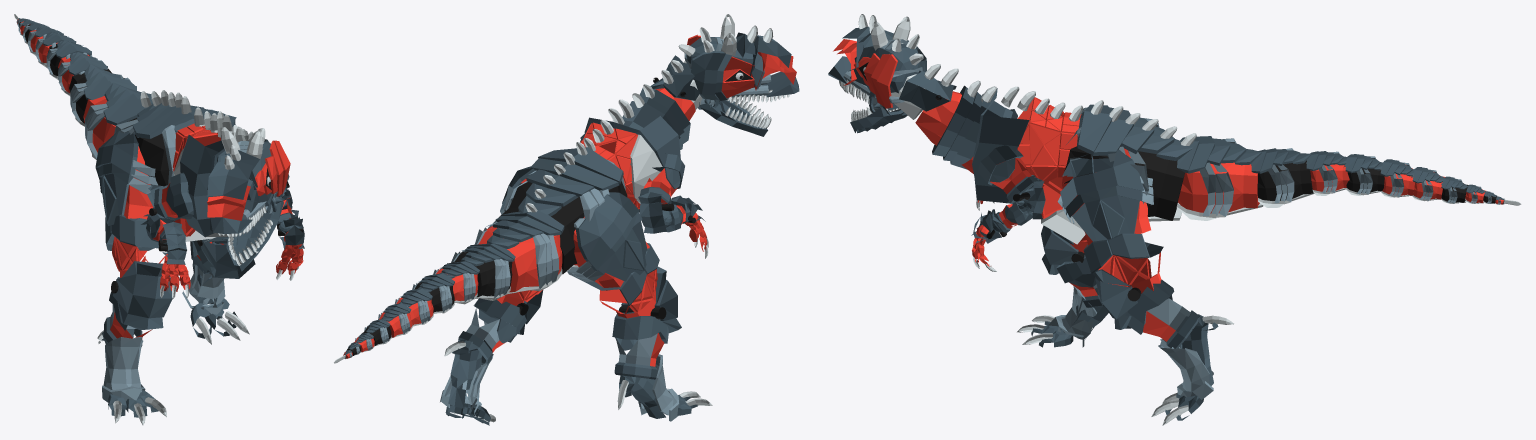
The model's file is allosaurus.glb.
3 views of the same model, side by side, from view 1: azimuth 30°, elevation 25°; view 2: azimuth 150°, elevation 25°; view 3: azimuth 270°, elevation 25° (orthographic). The views are drawn at different scales.
Parts seen in each view (by area): view 1: group1291320117, group2071872759, group981683805, group1539023352, group2094938102, group888383732, group76318400, group267761965, group261914981, group443268231, group403438056, group1146958945 (+25 smaller); view 2: group2071872759, group1291320117, group1539023352, group14225213, group956187693, group267761965, group888383732, group1513851335, group241357605, group2094938102, group981683805, group1507292513 (+21 smaller); view 3: group945318067, group2071872759, group1539023352, group241357605, group406889640, group267761965, group956187693, group1513851335, group2094938102, group186694386, group403438056, group1146958945 (+13 smaller).
Boxes of the visible parts, box(x1,y1,x2,y2) form: group1291320117: box(95, 131, 157, 225); group2071872759: box(114, 103, 235, 186); group981683805: box(111, 261, 172, 329); group1539023352: box(83, 82, 159, 159); group2094938102: box(180, 134, 282, 237); group888383732: box(105, 214, 165, 277); group76318400: box(103, 337, 143, 392); group267761965: box(69, 64, 136, 126); group261914981: box(154, 172, 193, 220); group443268231: box(207, 159, 258, 202); group403438056: box(197, 238, 255, 278); group1146958945: box(58, 52, 107, 96); group2071872759: box(499, 147, 627, 274); group1291320117: box(567, 192, 649, 290); group1539023352: box(474, 209, 564, 294); group14225213: box(612, 312, 668, 379); group956187693: box(458, 298, 526, 365); group267761965: box(451, 243, 515, 300); group888383732: box(585, 243, 659, 318); group1513851335: box(622, 88, 690, 150); group241357605: box(581, 122, 640, 209); group2094938102: box(584, 116, 680, 212); group981683805: box(618, 266, 681, 333); group1507292513: box(630, 134, 662, 203); group945318067: box(1057, 148, 1153, 245); group2071872759: box(1064, 104, 1192, 221); group1539023352: box(1176, 136, 1263, 220); group241357605: box(1017, 97, 1081, 187); group406889640: box(1083, 233, 1163, 293); group267761965: box(1251, 148, 1314, 207); group956187693: box(1125, 279, 1198, 348); group1513851335: box(932, 85, 1012, 169); group2094938102: box(972, 88, 1031, 203); group186694386: box(978, 145, 1038, 204); group403438056: box(1090, 269, 1141, 329); group1146958945: box(1306, 151, 1349, 195).
Bounding box in the file's own units: 1.91 × 3.13 × 5.82.
